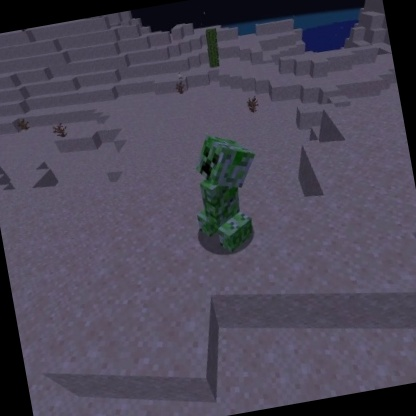creeper: (180, 123, 275, 262)
